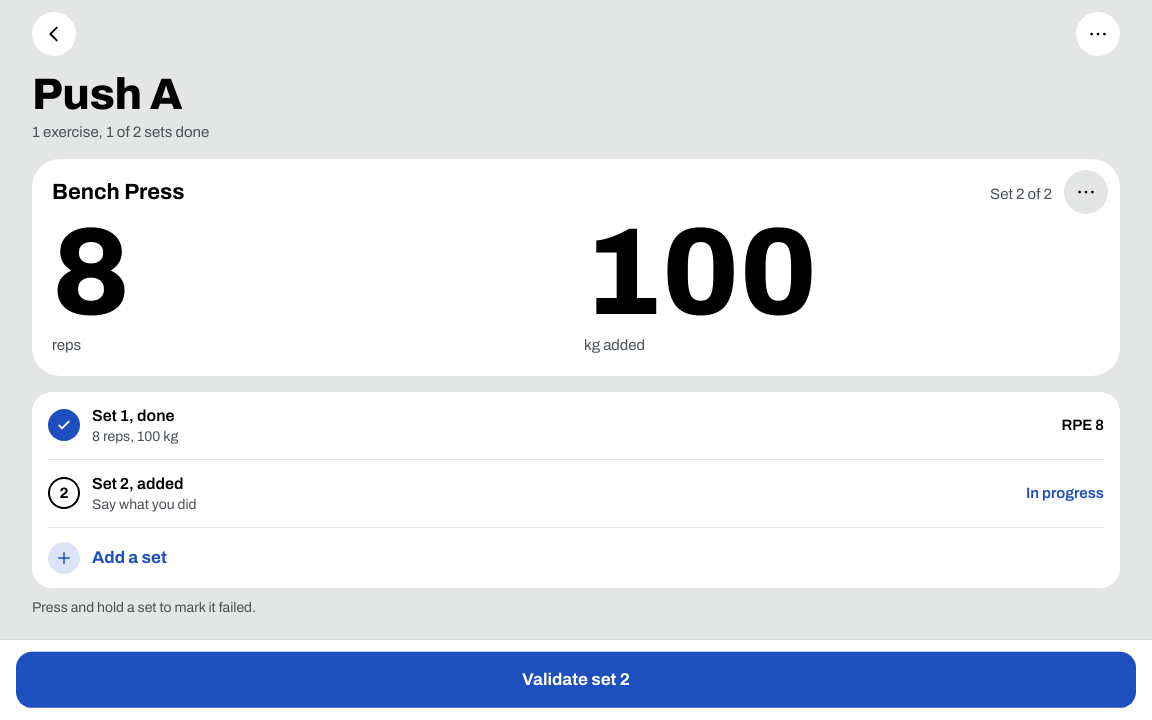
an extra set › after a set done as written it opens on that set's targets, and its Validate writes the values and the set done, then asks the RPE
Expected: the heading "Push A" is shown, [32, 72, 182, 116]
Step 1. Click the button "Validate set 2" → [576, 680], box [16, 652, 1136, 708]
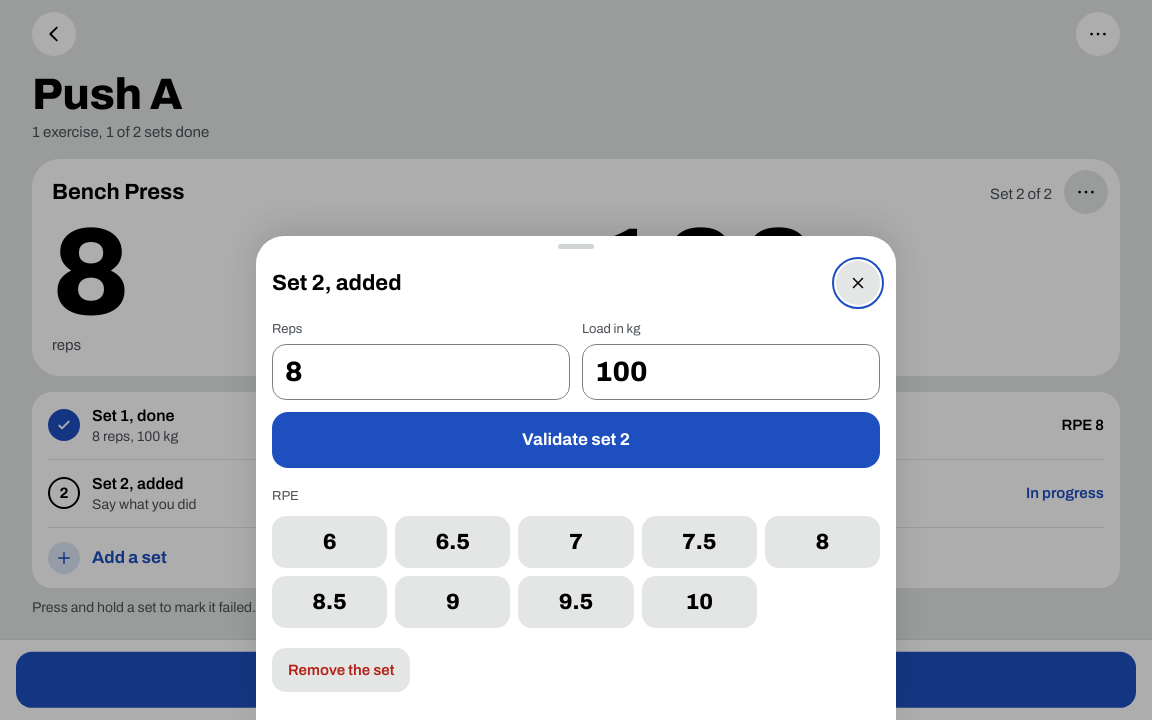
Step 2. Click the button "Validate set 2" → [576, 440], box [272, 412, 880, 468]
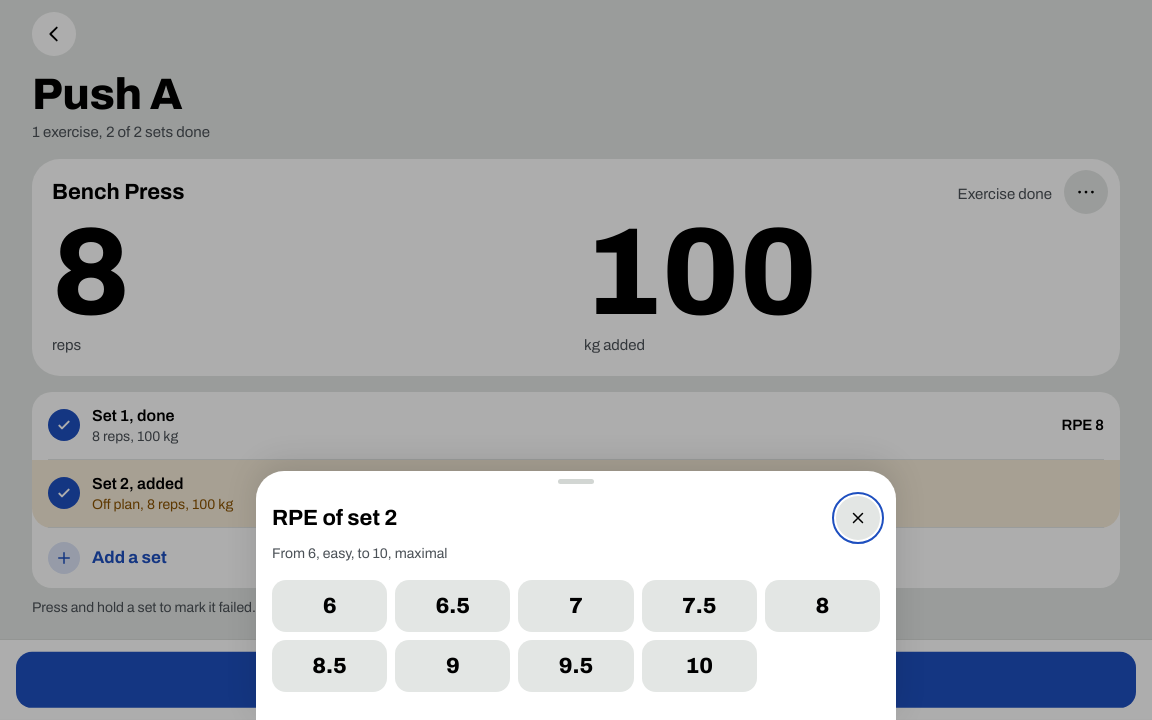
Now the heading "RPE of set 2" is shown, box [272, 505, 397, 532]
